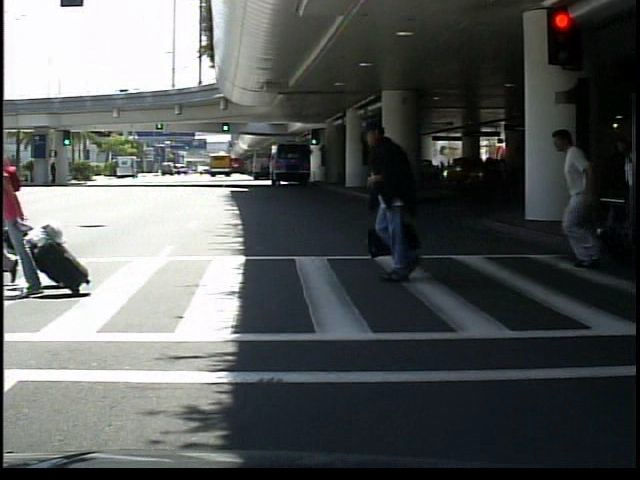person: (349, 114, 445, 283), (552, 113, 618, 272)
